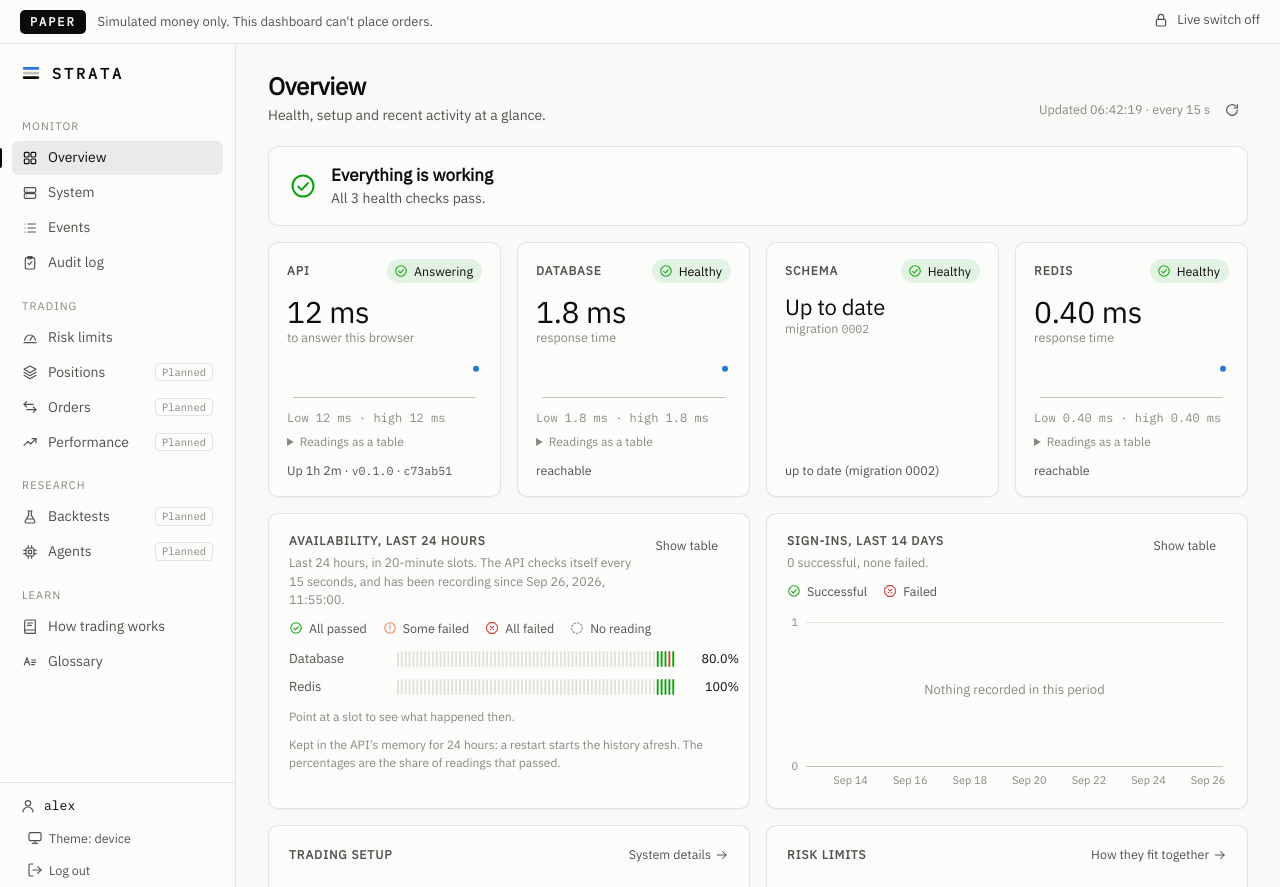
Test: while logged in › logs out through the API
Click the button "Log out" at {"x": 59, "y": 870}, box x1=16 y1=856 x2=101 y2=884
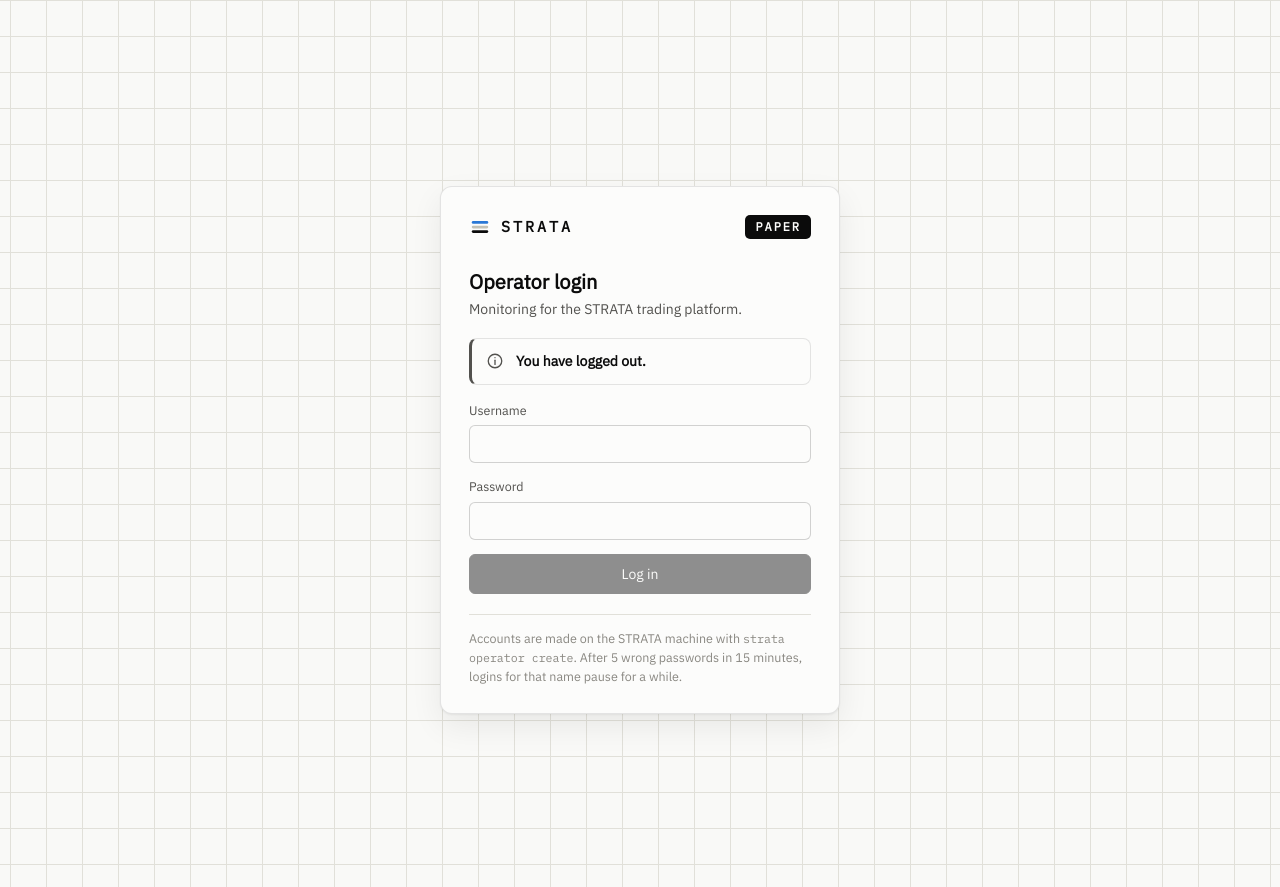
Now the text "You have logged out." is shown, box x1=516 y1=351 x2=646 y2=372
